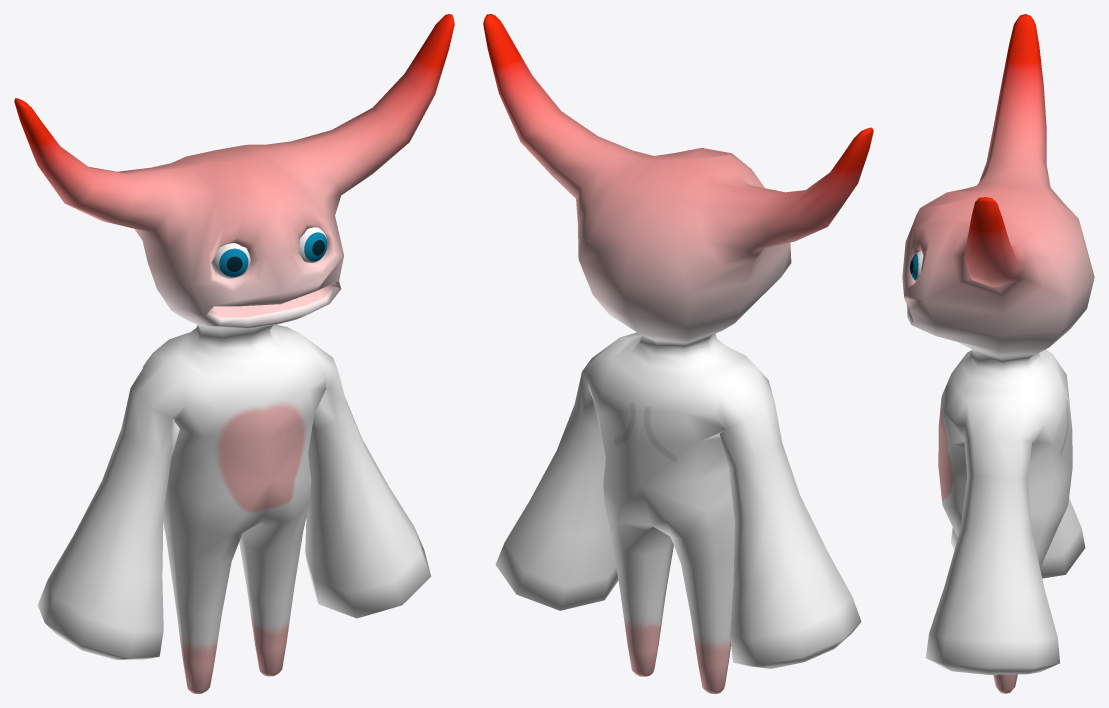
The model's file is frame36.obj.
The picture shows the model from 3 angles, left to right: view 1: azimuth 30°, elevation 25°; view 2: azimuth 150°, elevation 25°; view 3: azimuth 270°, elevation 25°; orthographic projection. The views are drawn at different scales.
Parts seen in each view (by area): view 1: Body, Right_Eye, Left_Eye; view 2: Body; view 3: Body.
Boxes of the visible parts, box(x1,y1,x2,y2) form: Body: box(14, 14, 454, 693); Right_Eye: box(211, 243, 250, 278); Left_Eye: box(299, 227, 327, 262); Body: box(483, 14, 873, 693); Body: box(902, 14, 1094, 693).
Size of the model in its own units: 13.17 by 18.98 by 5.81.
